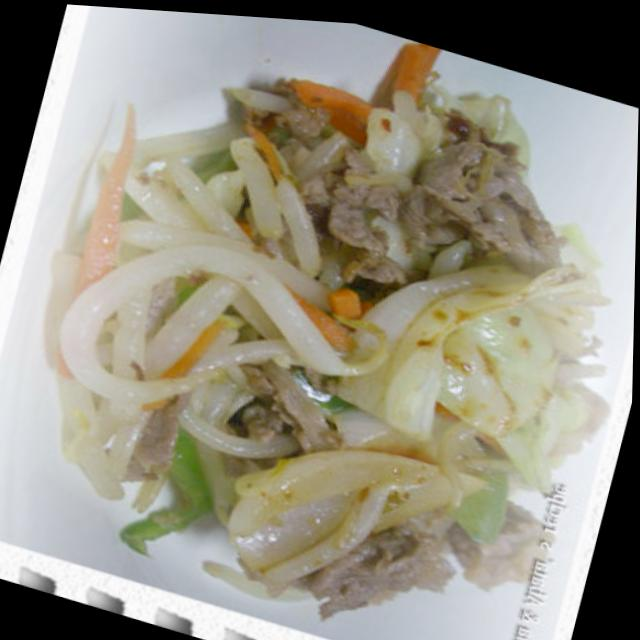蔬菜料理: (17, 1, 640, 640)
